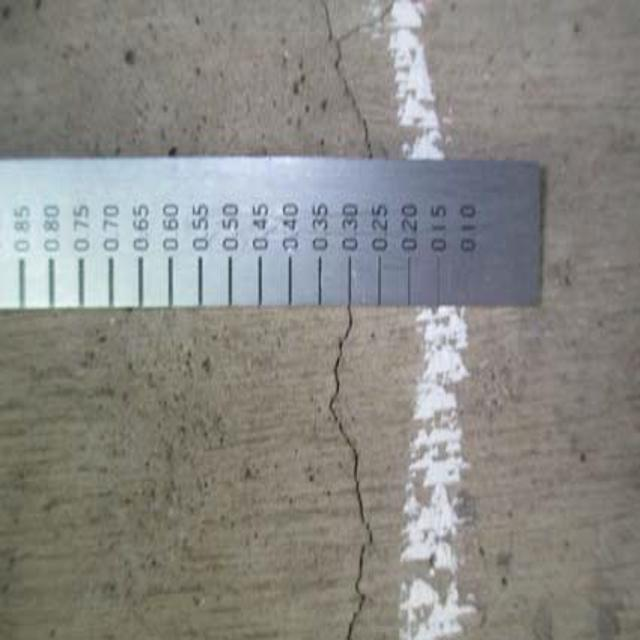crack: (313, 301, 394, 640), (296, 7, 396, 174)
